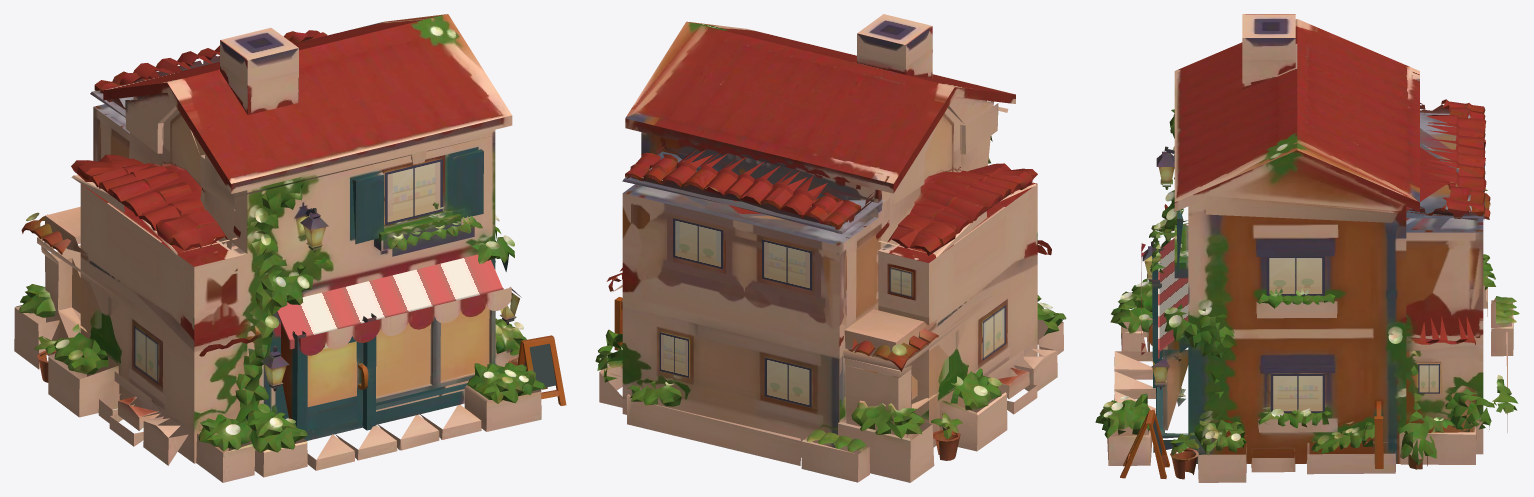
Rendered from m3_shop_r90.glb.
3 renders of one model, left to right at view 1: azimuth 30°, elevation 25°; view 2: azimuth 150°, elevation 25°; view 3: azimuth 270°, elevation 25°, orthographic. The views are drawn at different scales.
Visible parts, largest first — view 1: shell, shop_detail; view 2: shell, shop_detail; view 3: shell, shop_detail.
Boxes of the visible parts, box(x1,y1,x2,y2) form: shell: box(80, 14, 512, 463); shop_detail: box(14, 30, 566, 482); shell: box(622, 14, 1037, 457); shop_detail: box(595, 101, 1066, 482); shell: box(1158, 14, 1483, 463); shop_detail: box(1095, 99, 1519, 482).
Size of the model in its own units: 10.02 by 8.94 by 9.9.
6 materials, 5 textured.
